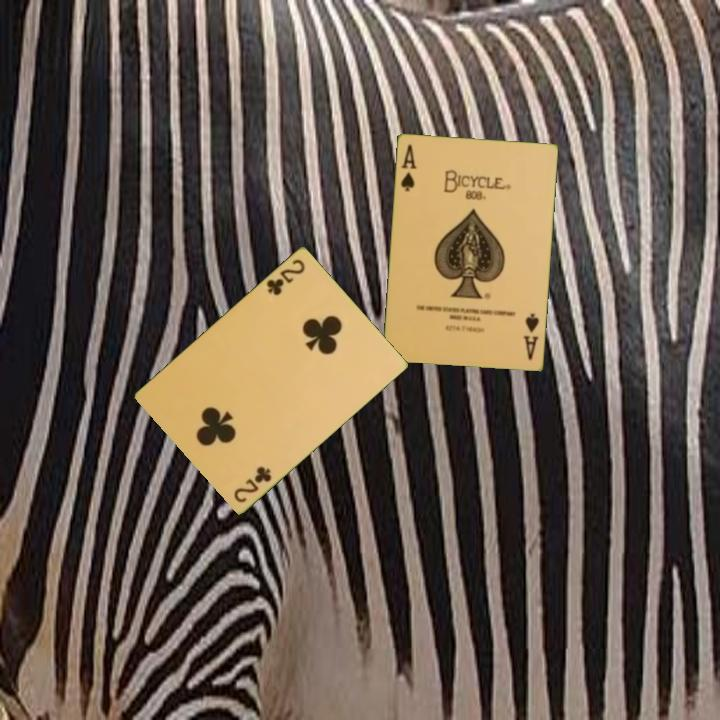2c: (263, 255, 308, 298), (230, 462, 274, 505)
As: (397, 141, 419, 194), (520, 309, 541, 362)
